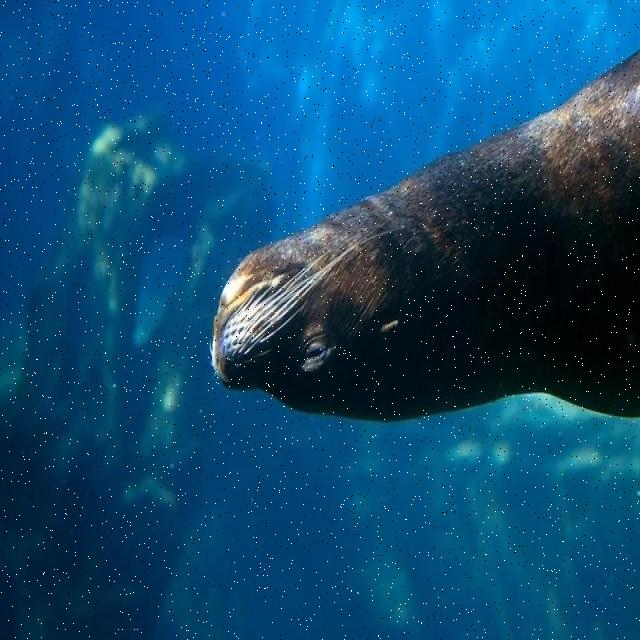fish: (206, 49, 639, 424)
